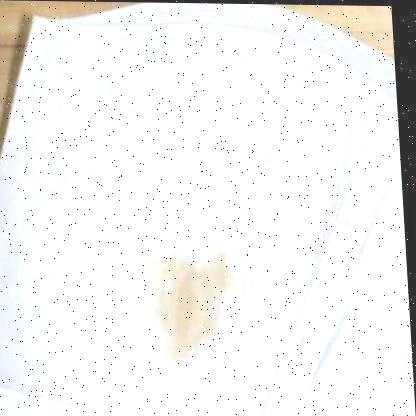coffee: (156, 261, 212, 354)
